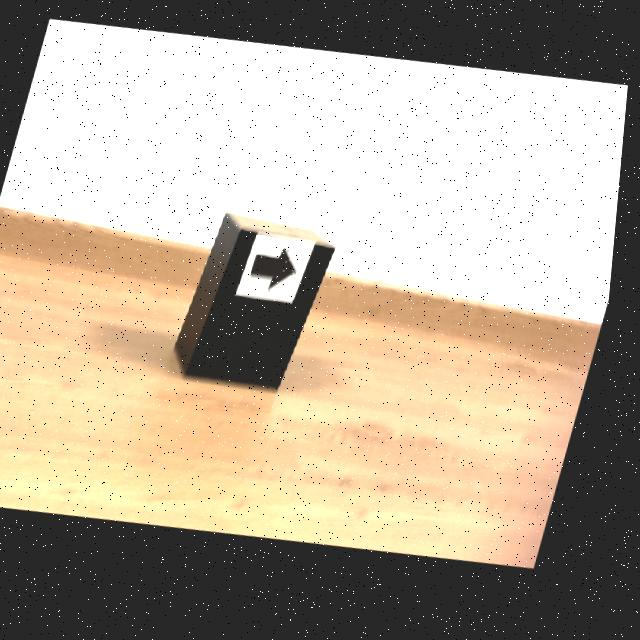RIGHT: (256, 254, 301, 296)
